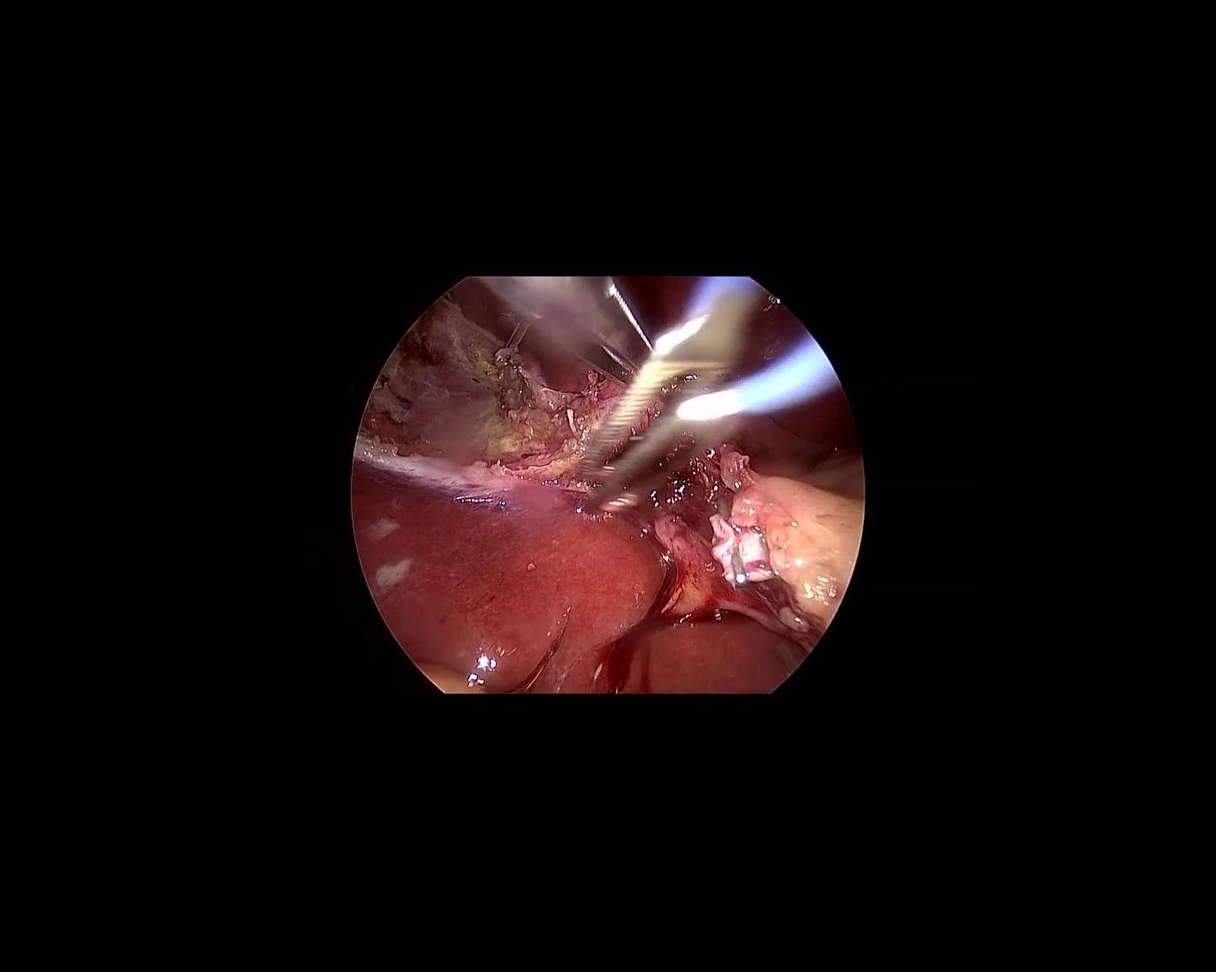Forceps: (513, 245, 840, 530), (476, 206, 697, 431)
Liver: (326, 462, 817, 732)
